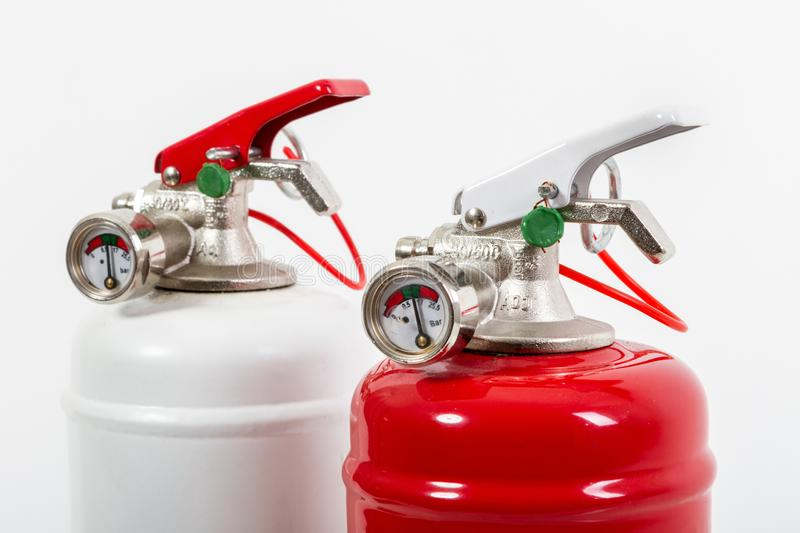fire_extinguisher: (341, 105, 718, 532)
